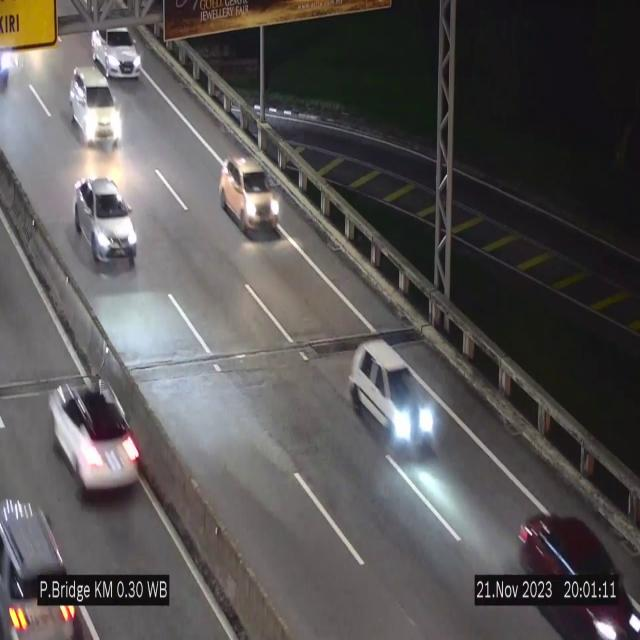Car: (516, 498, 636, 640), (40, 349, 144, 508), (0, 482, 88, 640), (349, 336, 433, 460), (75, 177, 137, 269), (220, 156, 280, 238), (70, 67, 121, 147), (91, 27, 142, 78)
